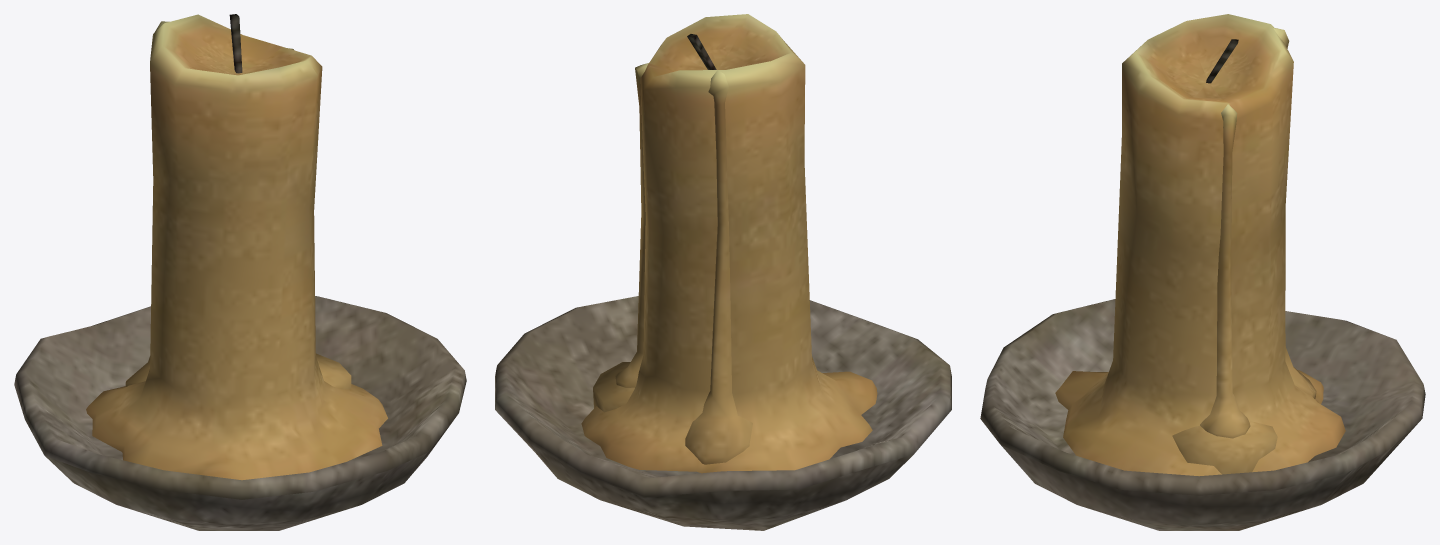
The model's file is GEN_PRO_Candle_Single_Bowl_01A_LOD0-transformed.glb.
3 renders of one model, left to right at view 1: azimuth 30°, elevation 25°; view 2: azimuth 150°, elevation 25°; view 3: azimuth 270°, elevation 25°, orthographic.
Visible parts, largest first — view 1: default; view 2: default; view 3: default.
Part boxes in pixels (x1,y1,x2,y2): default: [14, 14, 466, 530]; default: [495, 14, 951, 530]; default: [980, 14, 1425, 530].
Size of the model in its own units: 0.1759 by 0.1963 by 0.1737.
2 materials, 2 textured.
